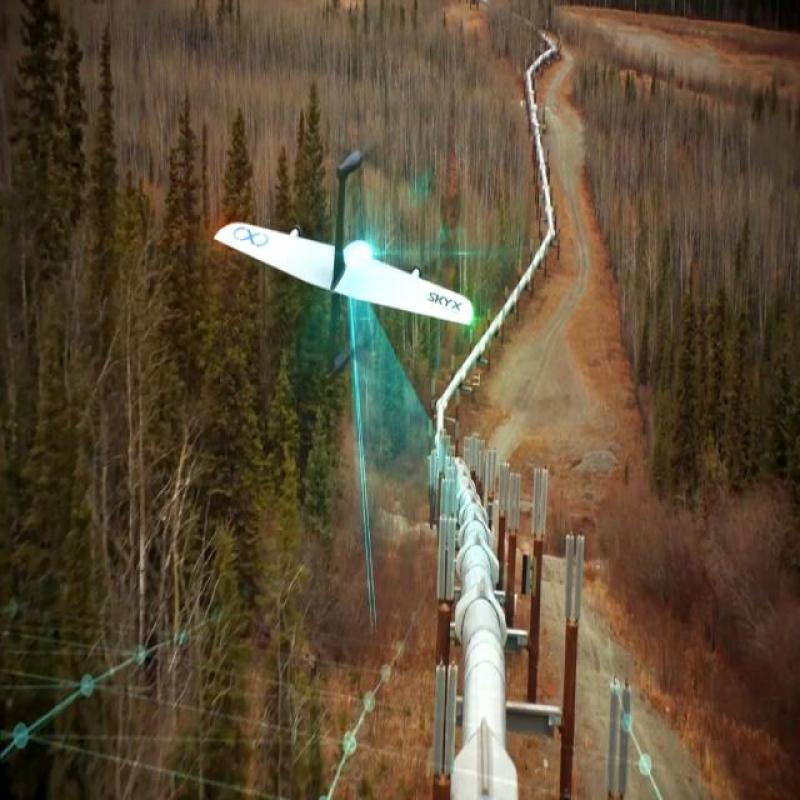Healthy: (382, 449, 576, 796)
